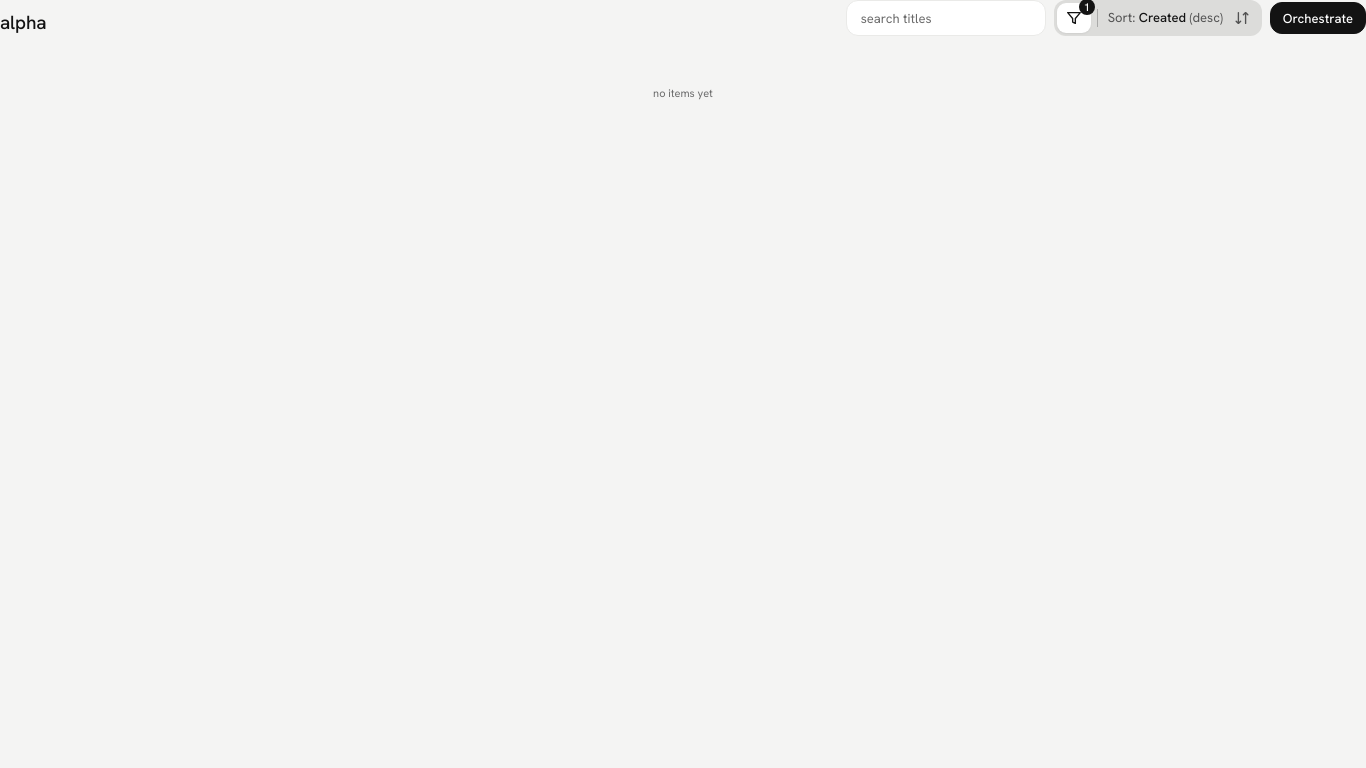
Test case: toolbar Orchestrate button › asks nothing extra when the button is not blocked at all
Click the button named "Filters" at (1074, 18), box [1057,3,1091,33]
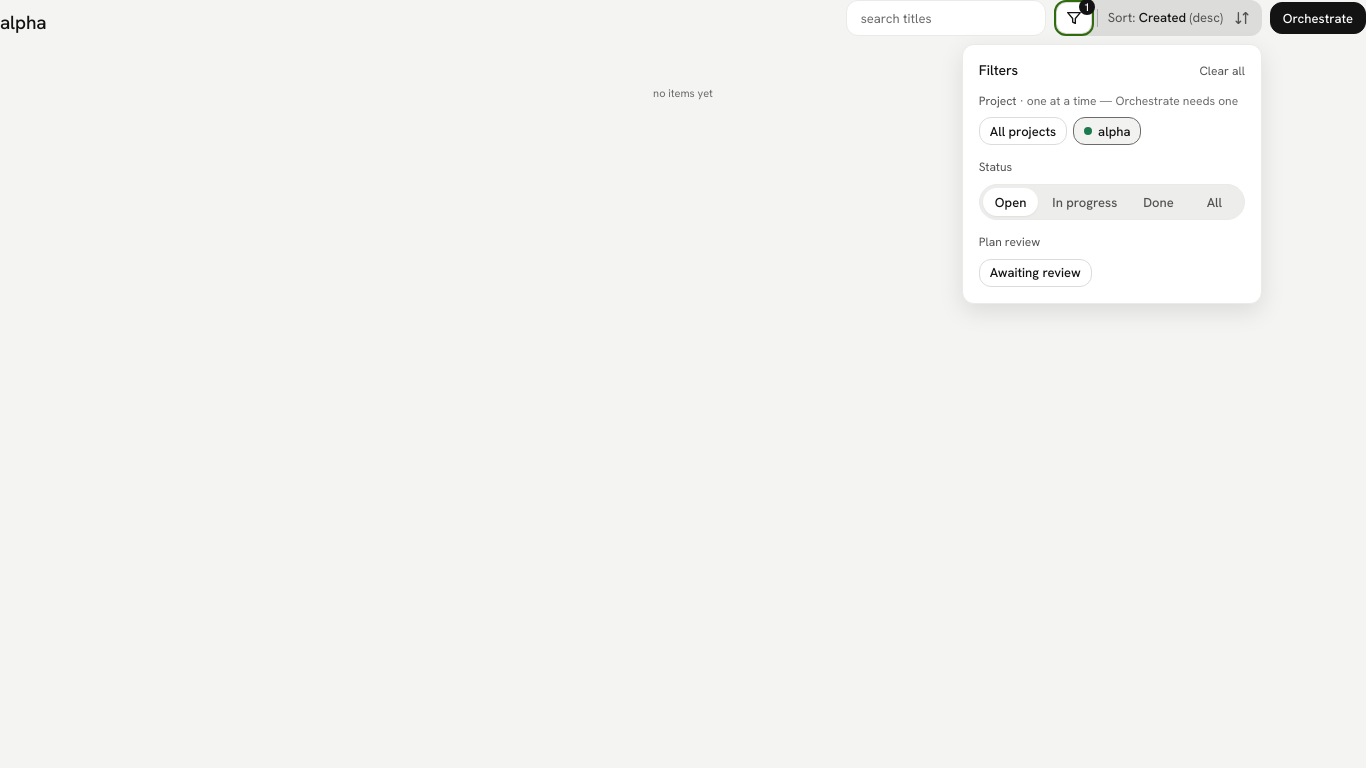
Now the button "alpha" is shown
Click the button "alpha" at (1107, 131), box [1073,117,1142,145]
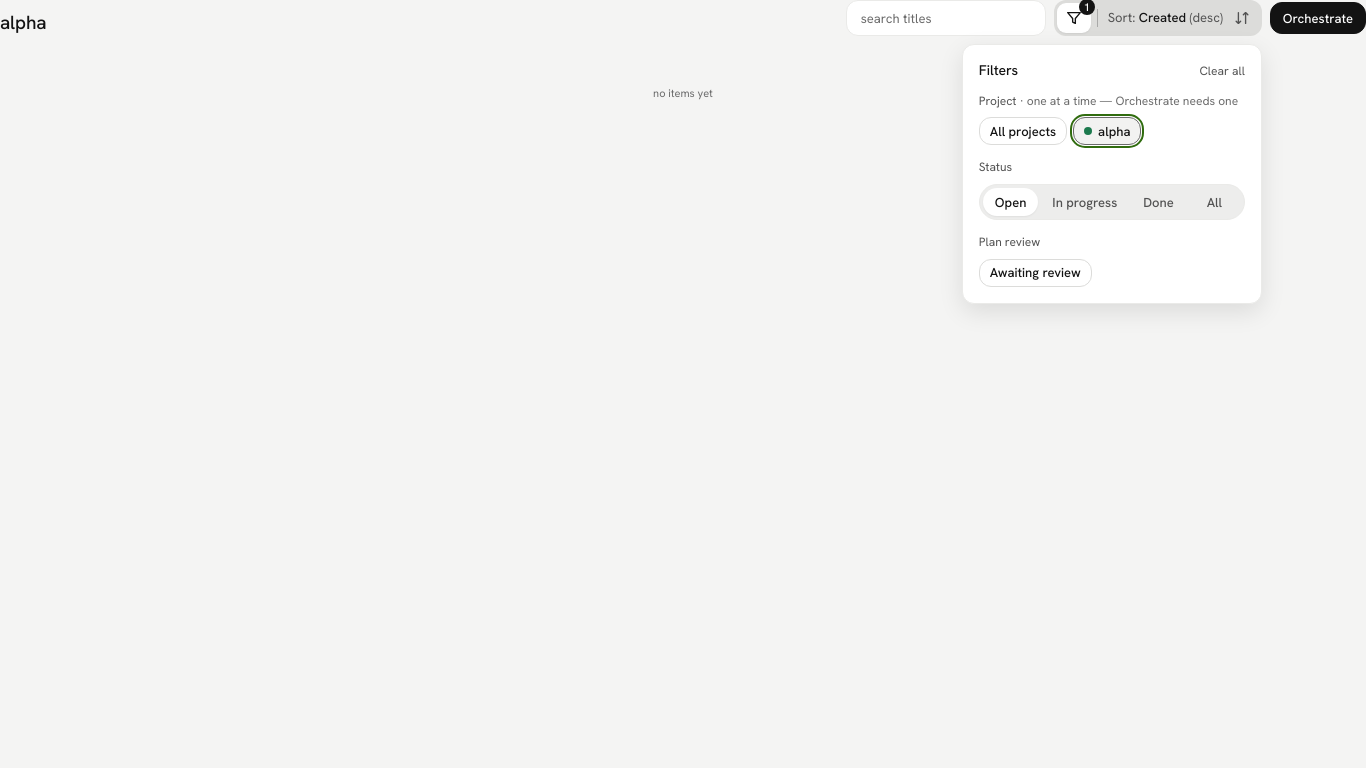
Click the button "Orchestrate" at (1318, 18), box [1270,2,1365,34]
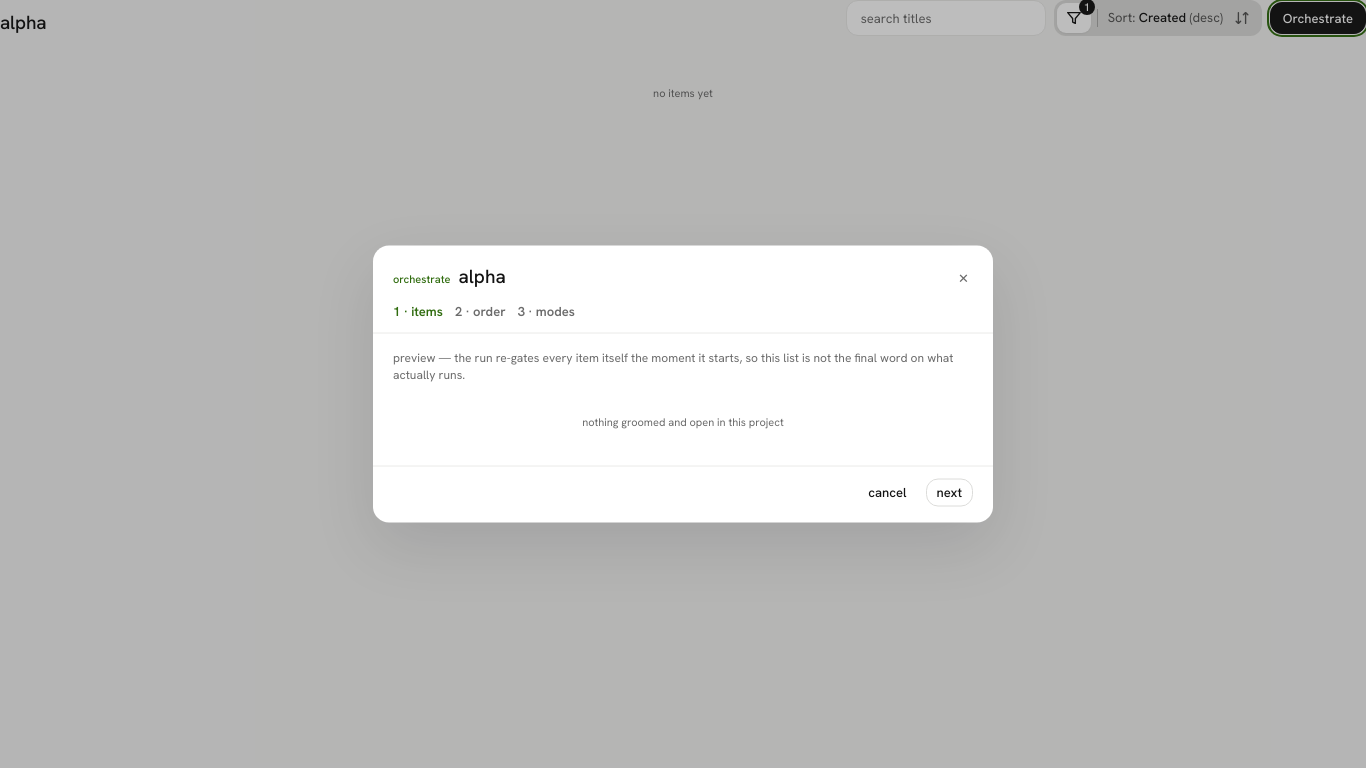
Now the dialog "orchestrate alpha" is shown, box [373,246,993,522]
